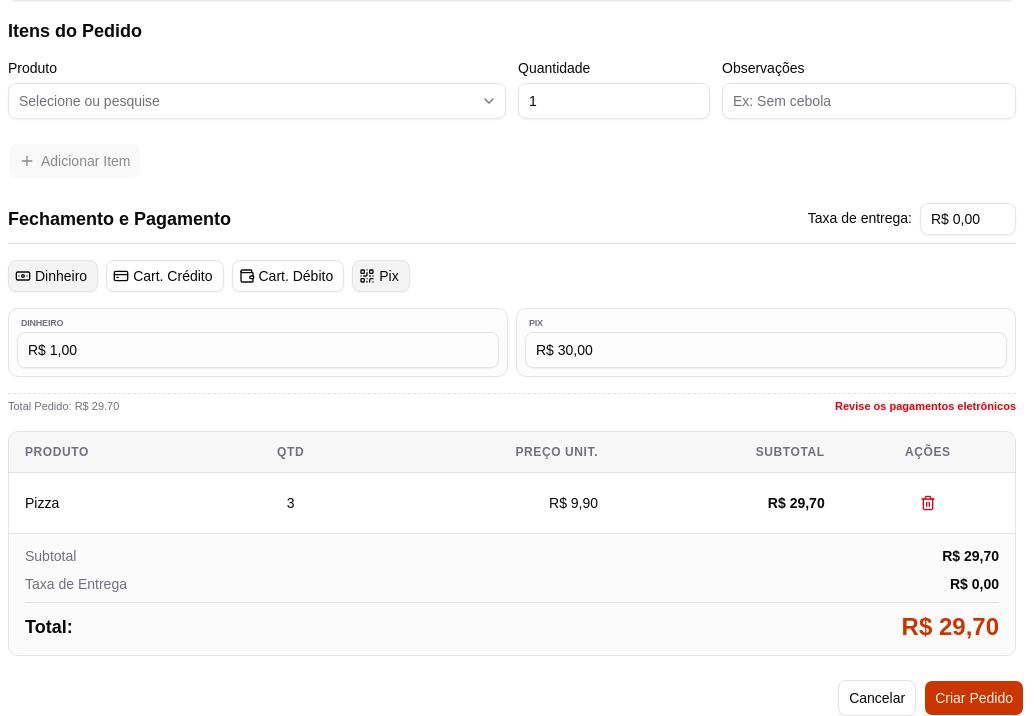
Scenario: OrderForm › does not suggest cash change when an electronic amount exceeds the order
The image size is (1036, 716).
(page scrolled)
expect the text "Revise os pagamentos eletrônicos" is shown: met, box 835,398 -> 1016,415
Click the button "Criar Pedido" at (974, 698), box 924,680 -> 1024,715
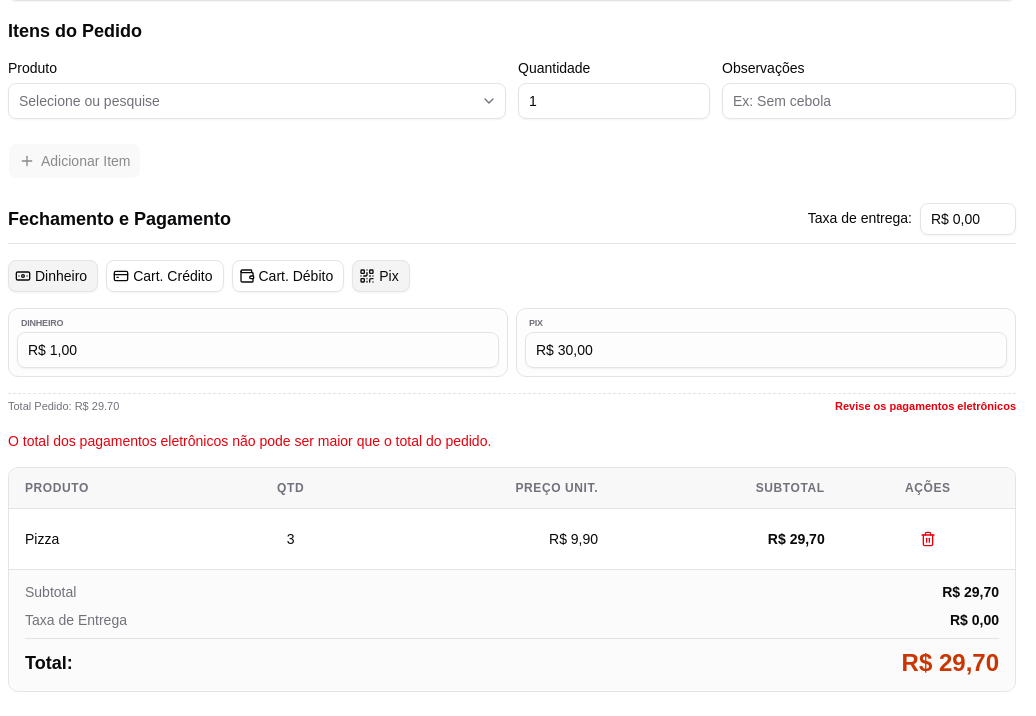
expect the text "O total dos pagamentos eletrônicos não pode ser maior que o total do pedido." is shown: met, box 8,433 -> 491,449
